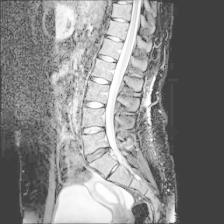disc: (82, 144, 114, 165), (88, 73, 114, 90), (83, 98, 110, 114), (81, 124, 109, 137), (104, 32, 128, 46), (107, 14, 134, 26), (100, 52, 120, 67), (113, 1, 137, 9)
